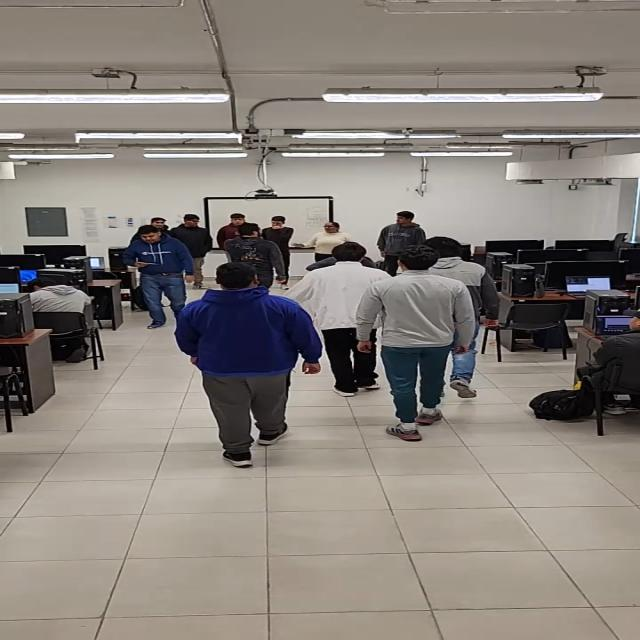Persona: (173, 261, 325, 468), (354, 244, 478, 443), (283, 243, 393, 398), (406, 234, 487, 398), (121, 224, 196, 329), (223, 222, 287, 290), (376, 210, 428, 276), (170, 214, 215, 290), (290, 221, 358, 263), (260, 215, 295, 291), (216, 212, 252, 259), (147, 217, 171, 233)
